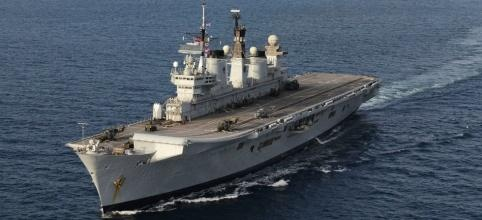warship: (68, 5, 377, 211)
